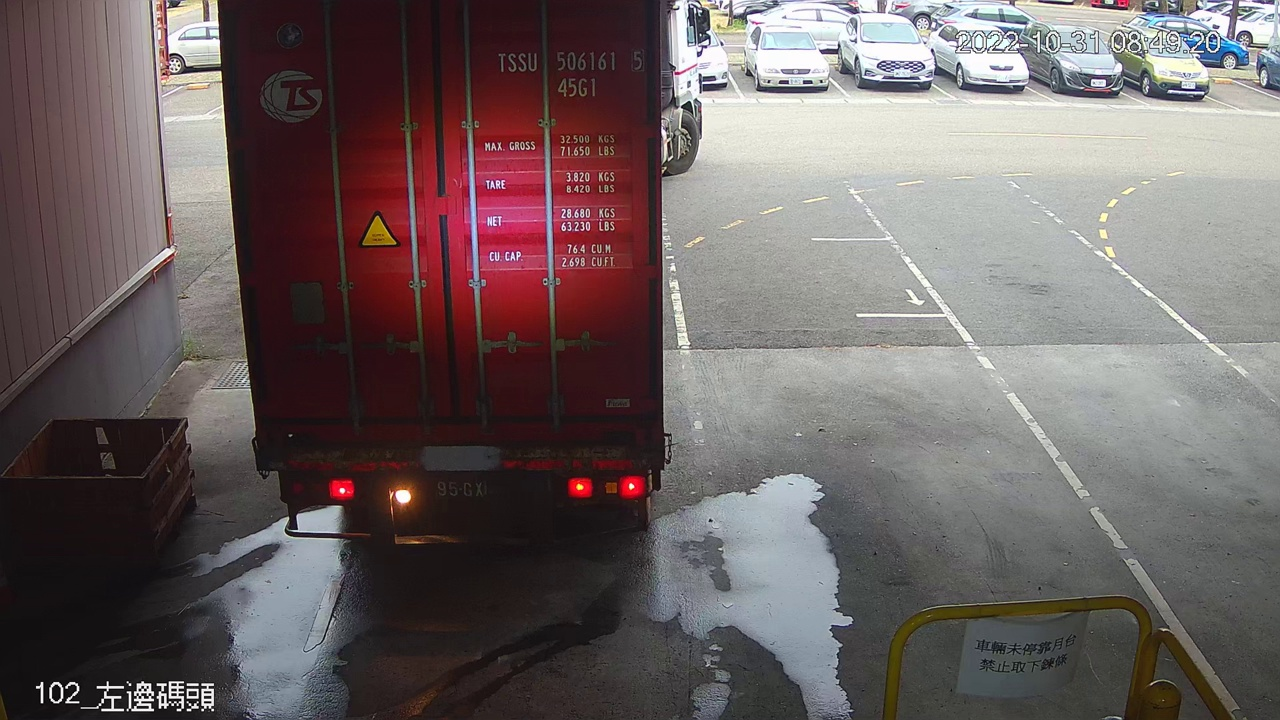container: (490, 43, 649, 104)
